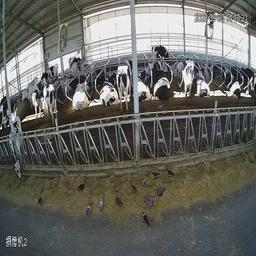cow: (5, 110, 25, 182), (111, 48, 132, 113), (144, 63, 174, 105), (40, 80, 59, 126), (220, 67, 242, 103), (100, 66, 118, 110), (70, 80, 94, 113), (177, 55, 194, 101), (136, 69, 153, 114), (194, 67, 213, 102), (24, 77, 41, 111), (151, 35, 171, 61), (41, 62, 60, 78)
